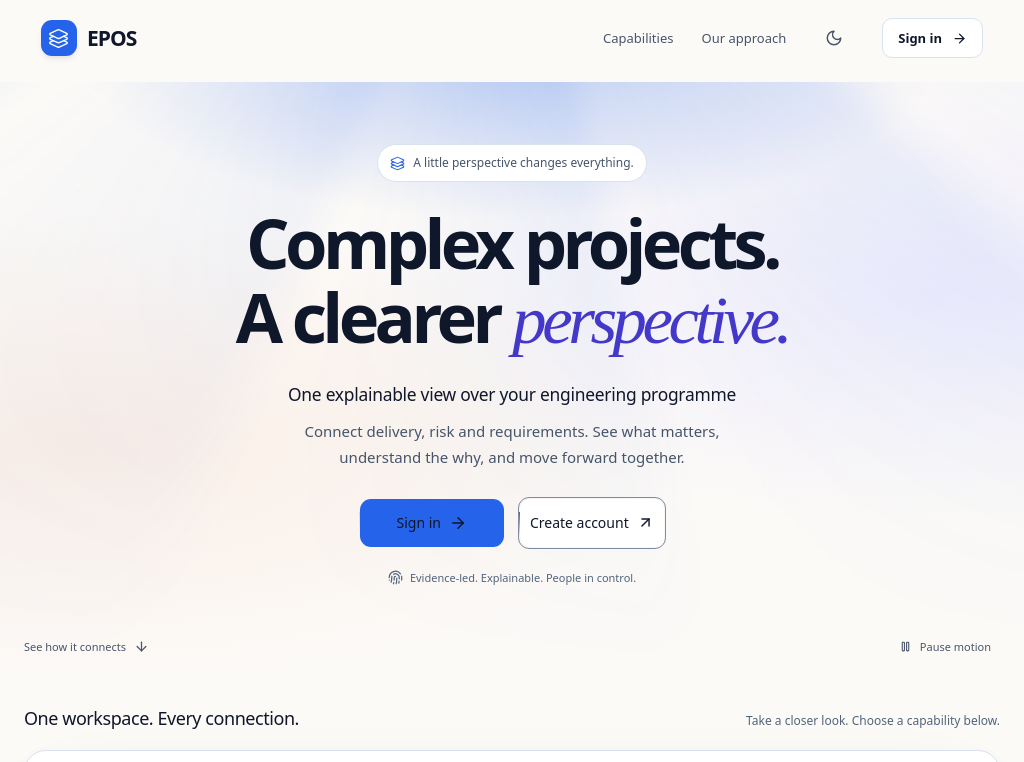
Test: Public welcome page › routes Sign in to the existing auth page
Click the button "Sign in" at coordinates (432, 523), box [358, 497, 506, 549]
(page scrolled)
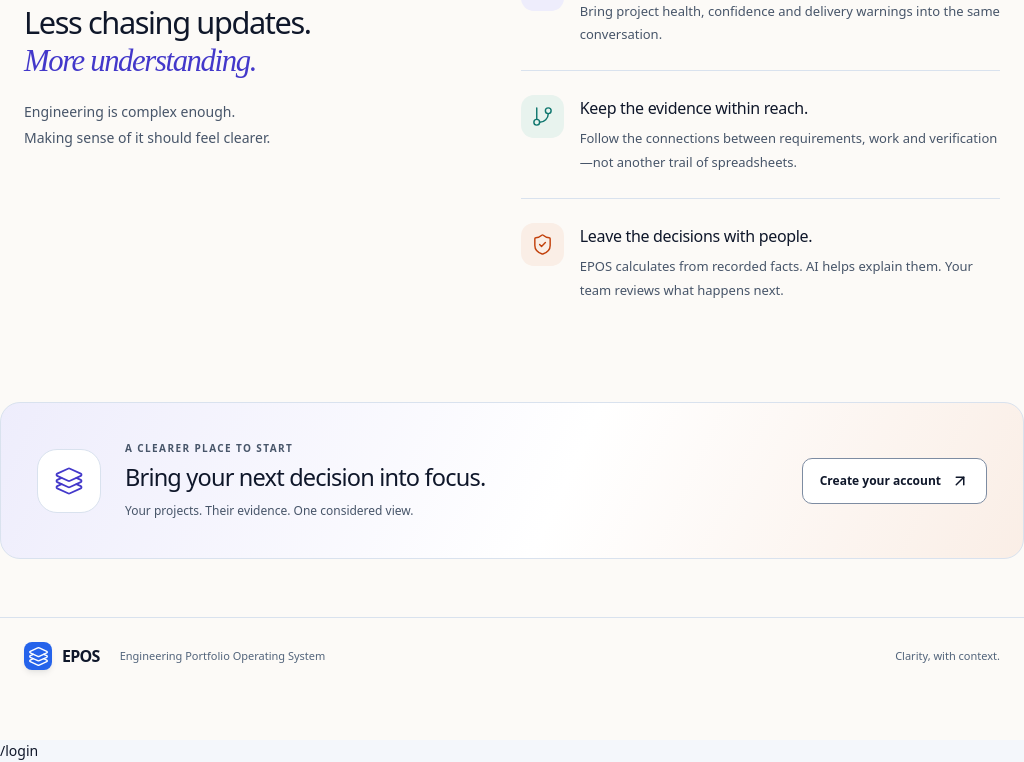
Result: the text named "Current route" reads "/login" at [0, 741, 38, 760]
